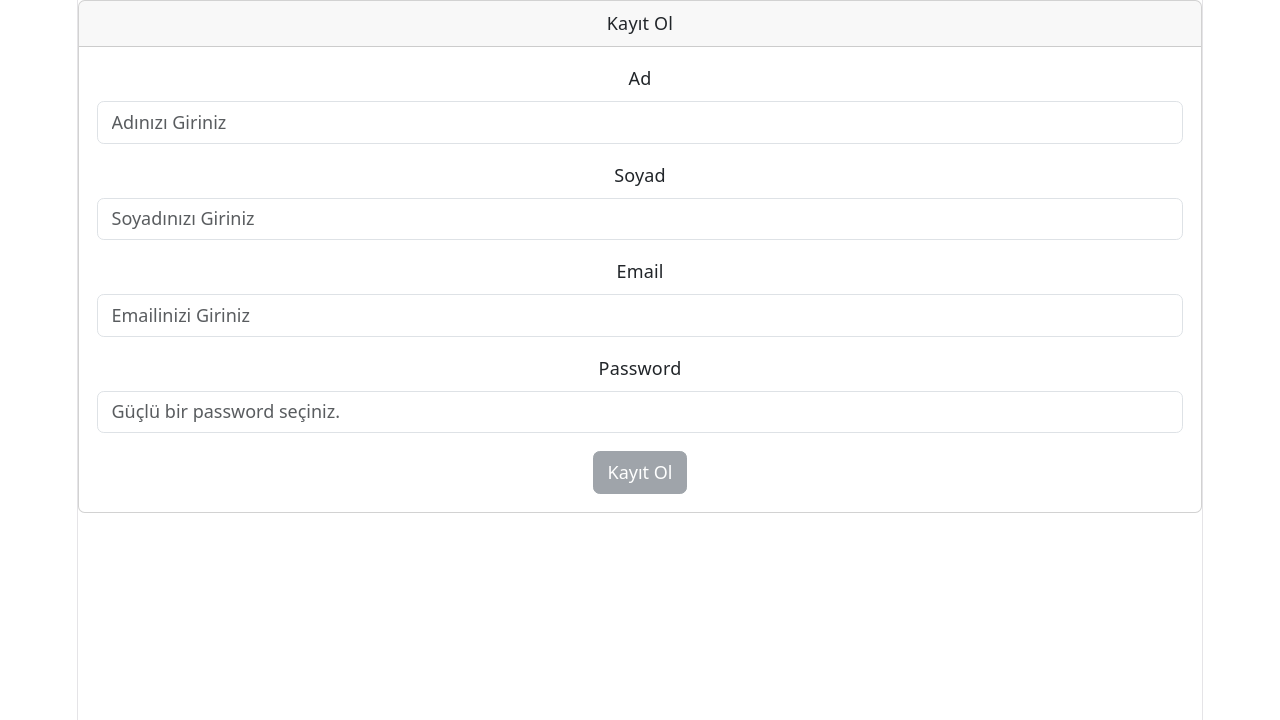
Register Page › Error Messages › Surname input throws errors for 2 chars
Type "şa" into the field with test id "soyad-input" at (640, 220), box [97,198,1183,241]
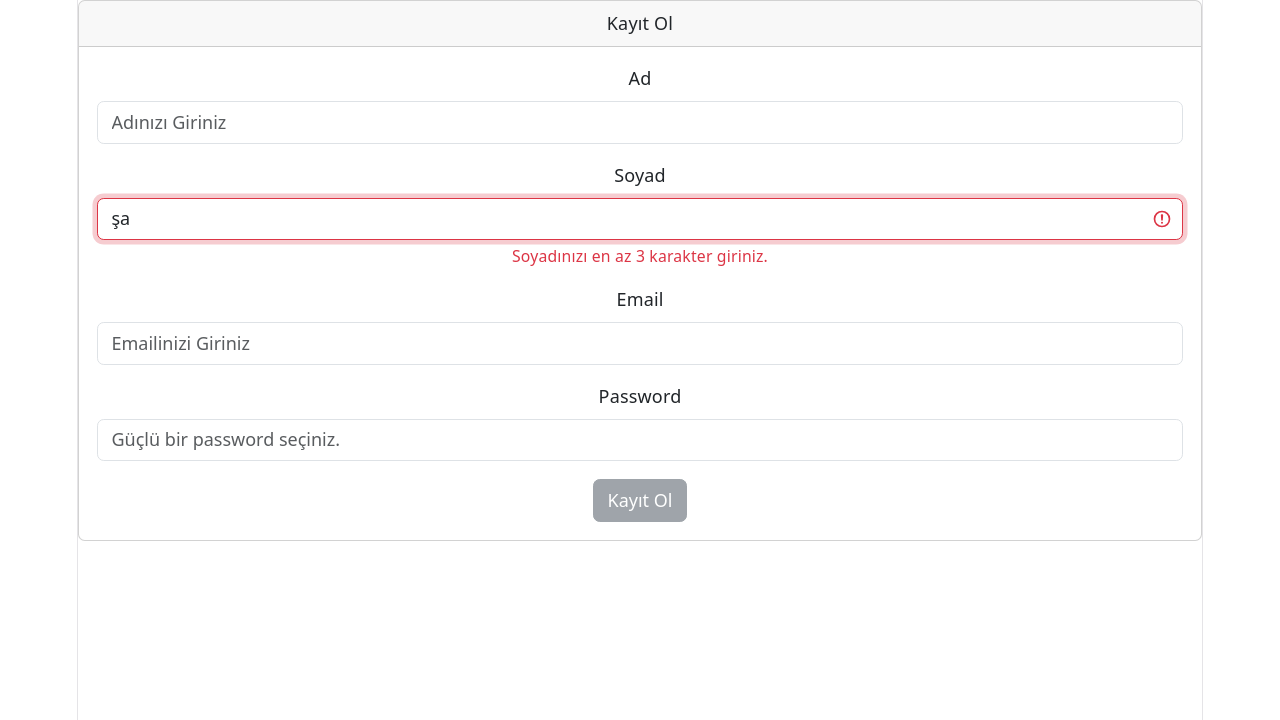
Result: the text "Soyadınızı en az 3 karakter giriniz." is shown at [512,244,768,266]
